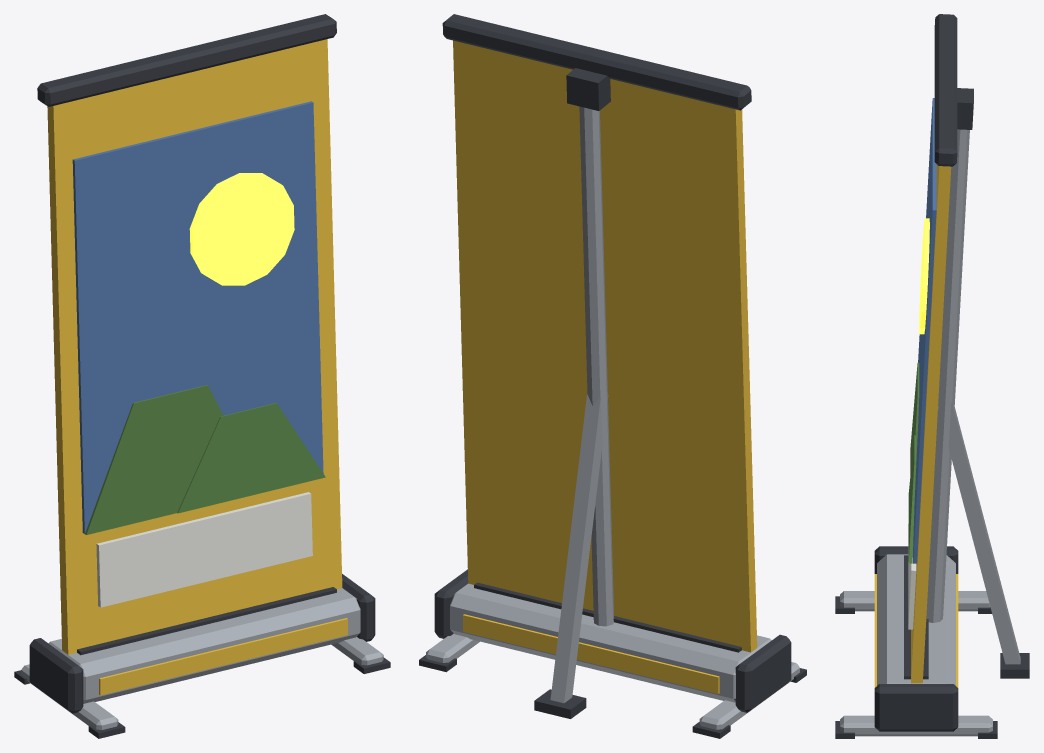
File: poster_core.glb
3 views of the same model, side by side, from view 1: azimuth 30°, elevation 25°; view 2: azimuth 150°, elevation 25°; view 3: azimuth 270°, elevation 25° (orthographic). The views are drawn at different scales.
Visible parts, largest first — view 1: poster_core_mesh; view 2: poster_core_mesh; view 3: poster_core_mesh.
Boxes of the visible parts, x1,y1,x2,y2 form: poster_core_mesh: [14, 14, 390, 738]; poster_core_mesh: [419, 14, 806, 738]; poster_core_mesh: [835, 14, 1029, 738].
Bounding box in the file's own units: 0.695 × 1.32 × 0.395.
